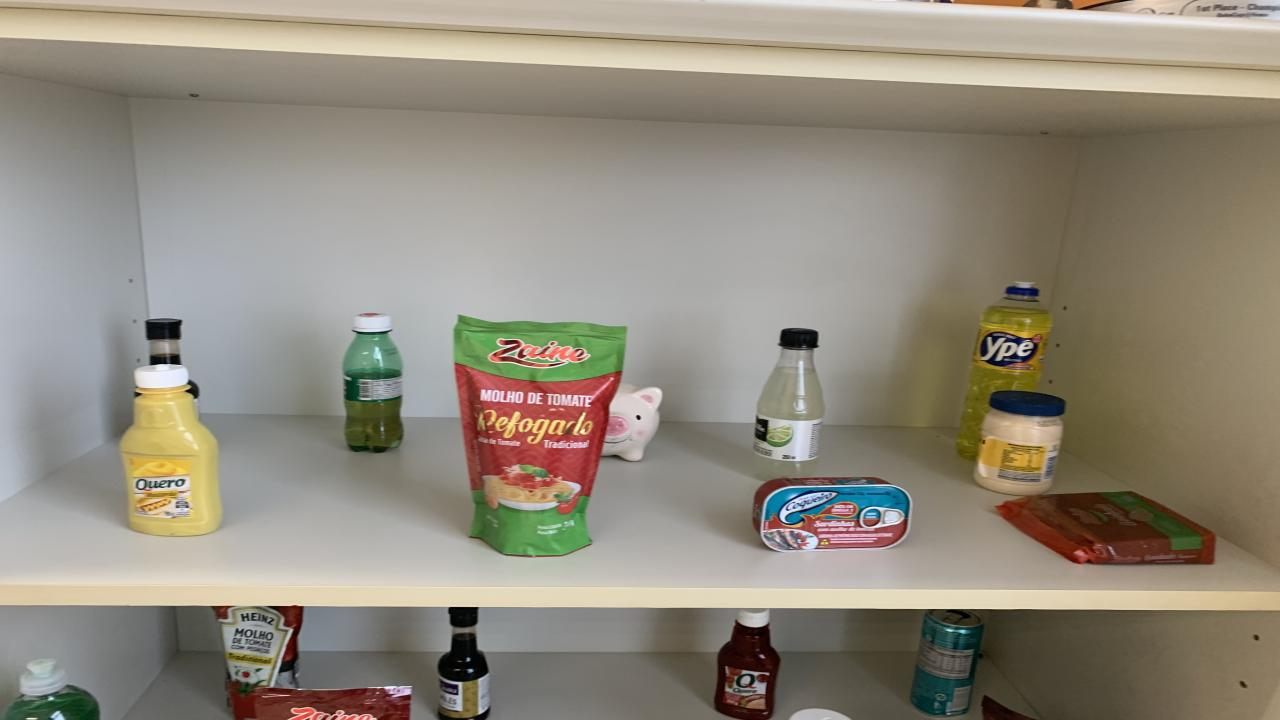Detergent-Cleanup_Items: (955, 283, 1052, 459), (2, 658, 100, 720)
English_Sauce-Pantry_Items: (438, 608, 490, 720), (145, 319, 182, 366), (190, 382, 200, 398)
Guarana-Drinks: (342, 313, 402, 452)
Guava-Snacks: (1000, 491, 1215, 564)
Ketchup-Pantry_Items: (715, 609, 780, 720)
Mayonnaise-Pantry_Items: (975, 390, 1065, 495)
Mustard-Pantry_Items: (120, 364, 222, 536)
Pig_Safe-Miscellaneous: (602, 382, 662, 461)
Soda-Drinks: (752, 328, 825, 480)
Tea-Drinks: (910, 609, 985, 716)
Tomato_Sauce-Pantry_Items: (455, 317, 628, 555), (212, 606, 302, 718), (255, 686, 412, 720), (982, 696, 1035, 720)
Tuna_Can-Pantry_Items: (752, 476, 912, 551)
